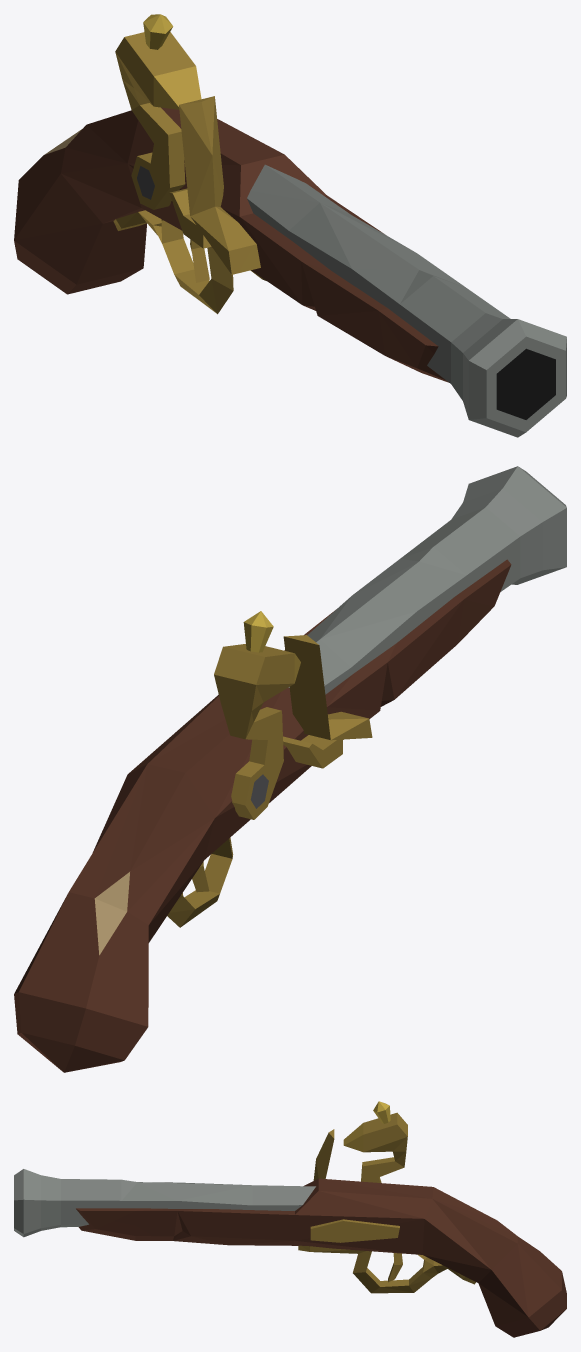
File: SM_Wep_MusketPistol_01.gltf
The picture shows the model from 3 angles, top to bottom: view 1: azimuth 30°, elevation 25°; view 2: azimuth 150°, elevation 25°; view 3: azimuth 270°, elevation 25°; orthographic projection. The views are drawn at different scales.
Visible parts, largest first — view 1: SM_Wep_MusketPistol_01; view 2: SM_Wep_MusketPistol_01; view 3: SM_Wep_MusketPistol_01.
Part boxes in pixels (bbox=[...]): SM_Wep_MusketPistol_01: bbox=[14, 14, 566, 437]; SM_Wep_MusketPistol_01: bbox=[14, 466, 566, 1072]; SM_Wep_MusketPistol_01: bbox=[14, 1101, 566, 1337].
Size of the model in its own units: 0.0955 by 0.2461 by 0.5743.
Materials: 1 (1 with a texture image).
